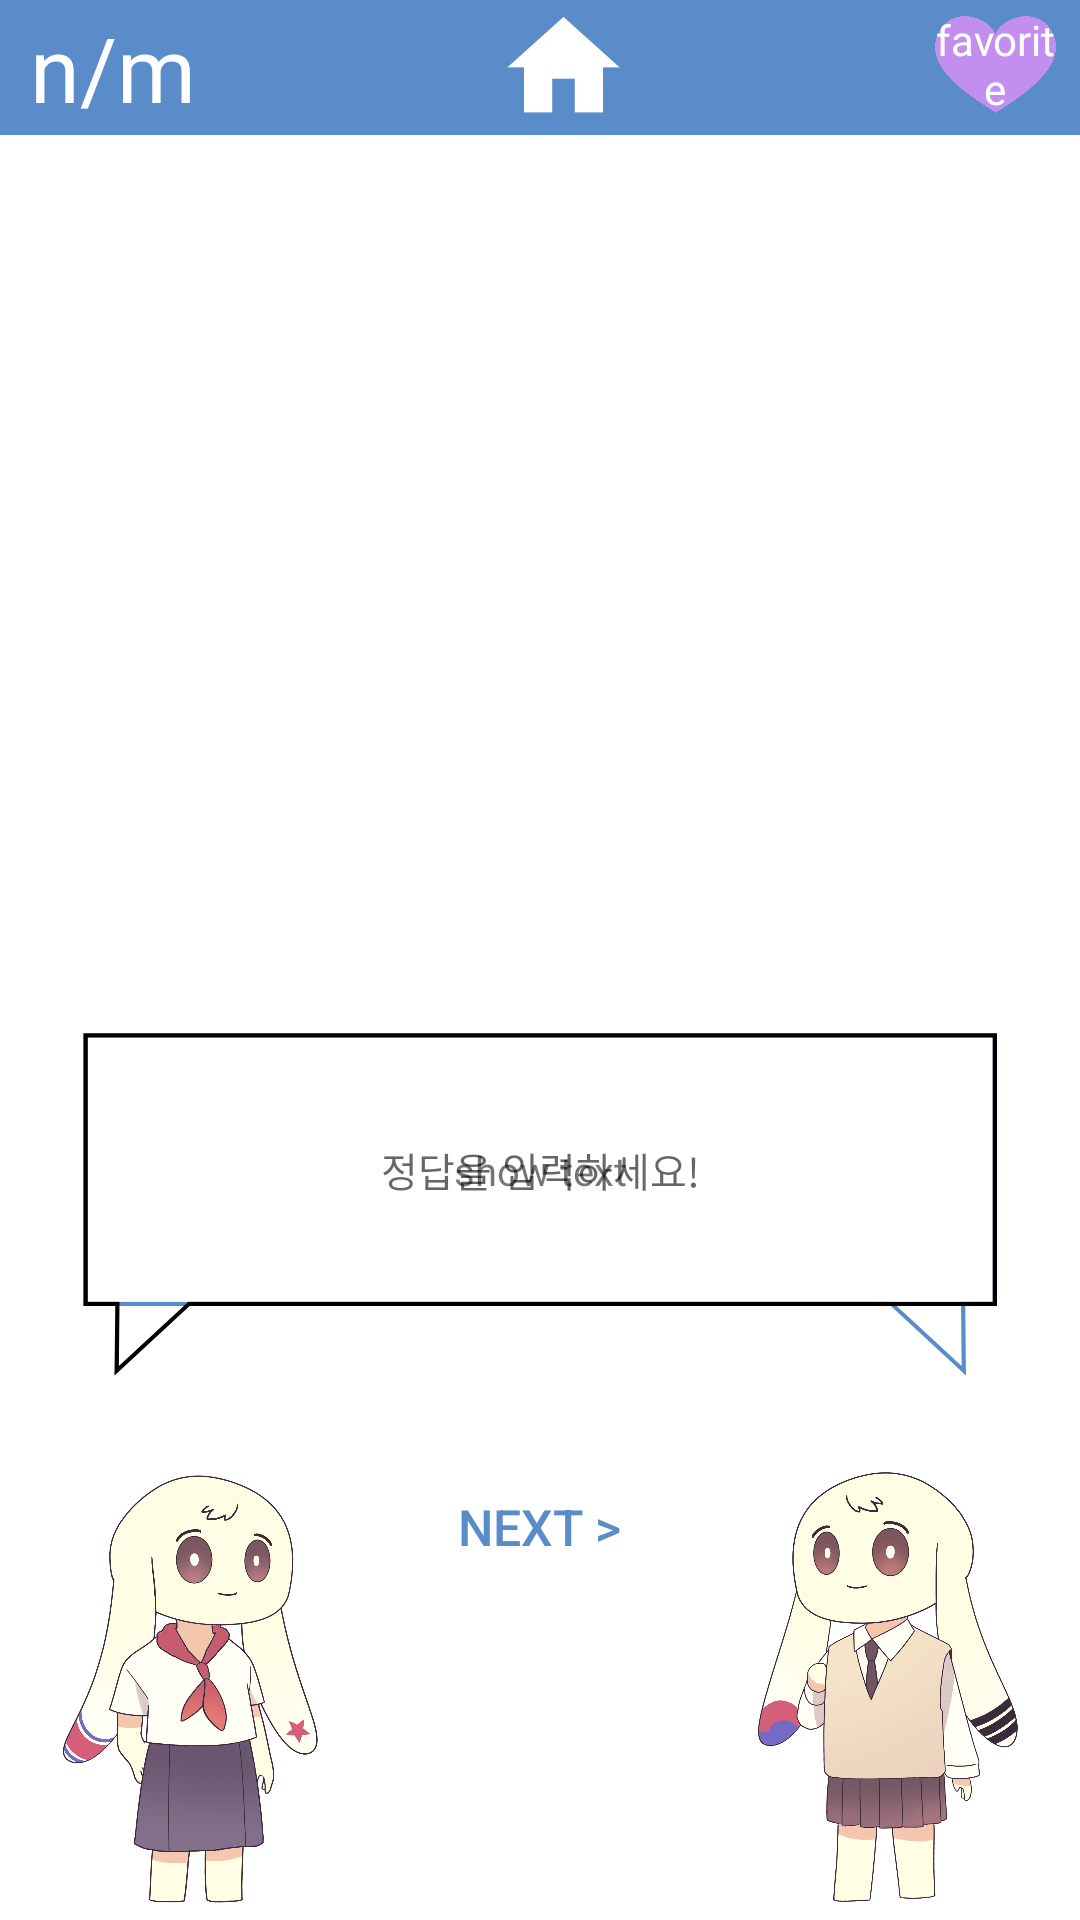

Icon bounding boxes for this 1080×1920 phone screenshot, format {"x1": x1, "y1": y1, "x2": x2, "y2": y2}:
home: {"x1": 507, "y1": 17, "x2": 620, "y2": 113}
